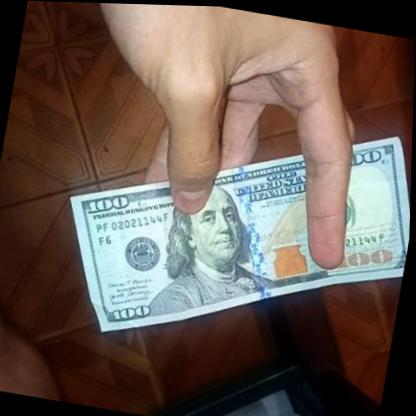one_hundred-front: (45, 92, 414, 379)
